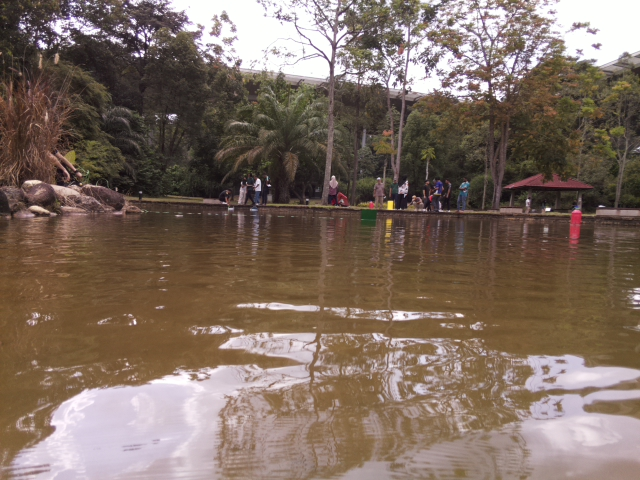obstacle: (359, 209, 378, 220)
